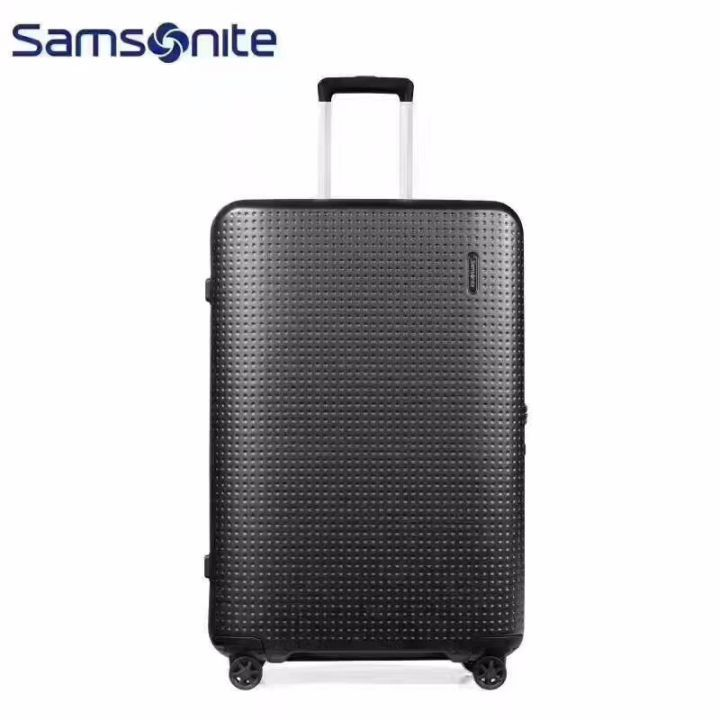suitcase: (204, 77, 529, 692)
